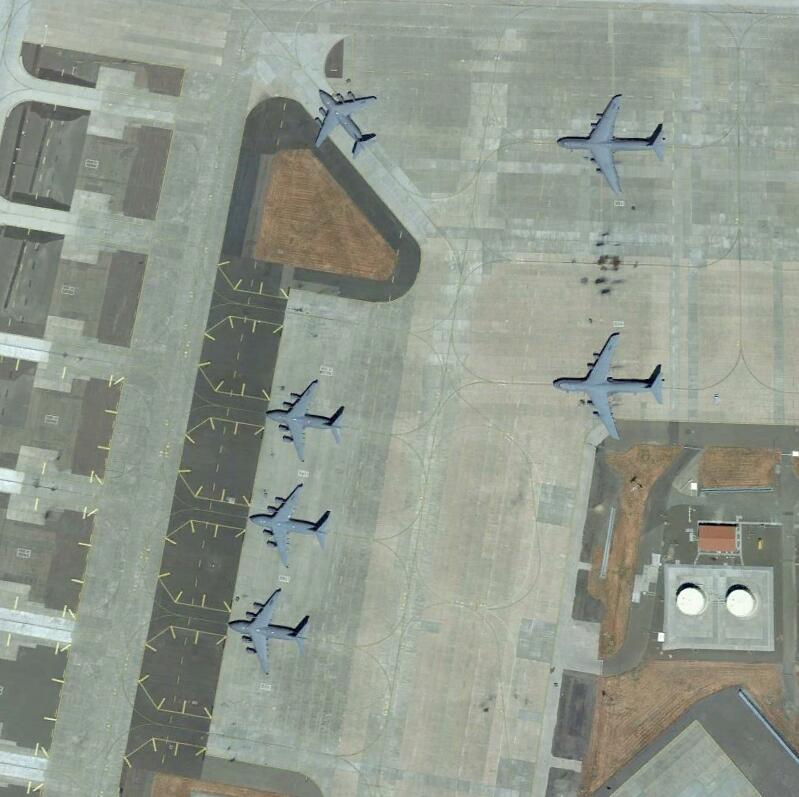A3: (228, 588, 314, 681), (247, 482, 334, 568), (265, 379, 346, 465), (311, 88, 382, 157)
A4: (556, 330, 666, 440), (558, 90, 668, 196)
